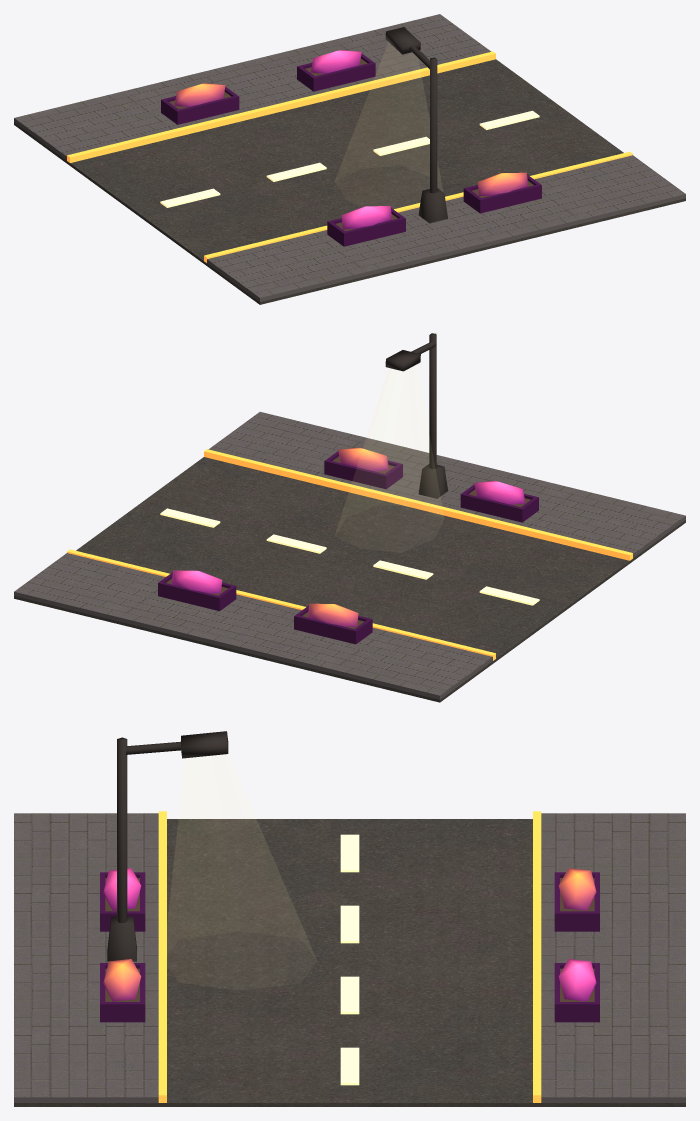
Rendered from straight.glb.
3 views of the same model, one above another, from view 1: azimuth 30°, elevation 25°; view 2: azimuth 150°, elevation 25°; view 3: azimuth 270°, elevation 25° (orthographic). The views are drawn at different scales.
Visible parts, largest first — view 1: StraightRoad; view 2: StraightRoad; view 3: StraightRoad.
Part boxes in pixels (x1,y1,x2,y2): StraightRoad: [14, 14, 685, 304]; StraightRoad: [14, 333, 685, 702]; StraightRoad: [14, 731, 685, 1106].
Size of what is drawn, in the model's own units: 3.2 by 1.2 by 3.2.
Materials: 5 (5 with a texture image).
